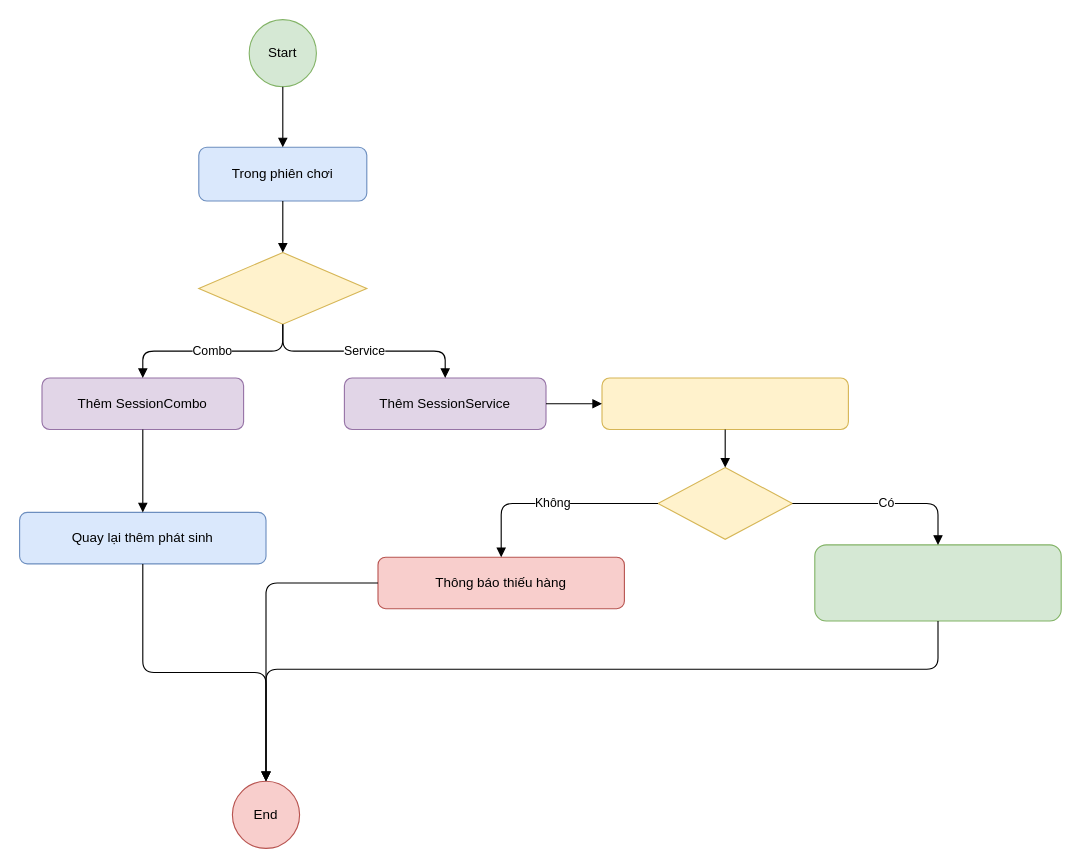
Some shapes in this 1081 by 868 pixel diagram are drawn without their labels. The shapes that lost their labels are listed below. From the top down, each one's centre as x and y in pixels, then its label:
At (x=282, y=287): "Chọn phát sinh".
At (x=724, y=403): "Kiểm tra tồn kho Inventory".
At (x=724, y=502): "Đủ hàng?".
At (x=937, y=582): "Cập nhật Inventory\nGhi InventoryMovement".
